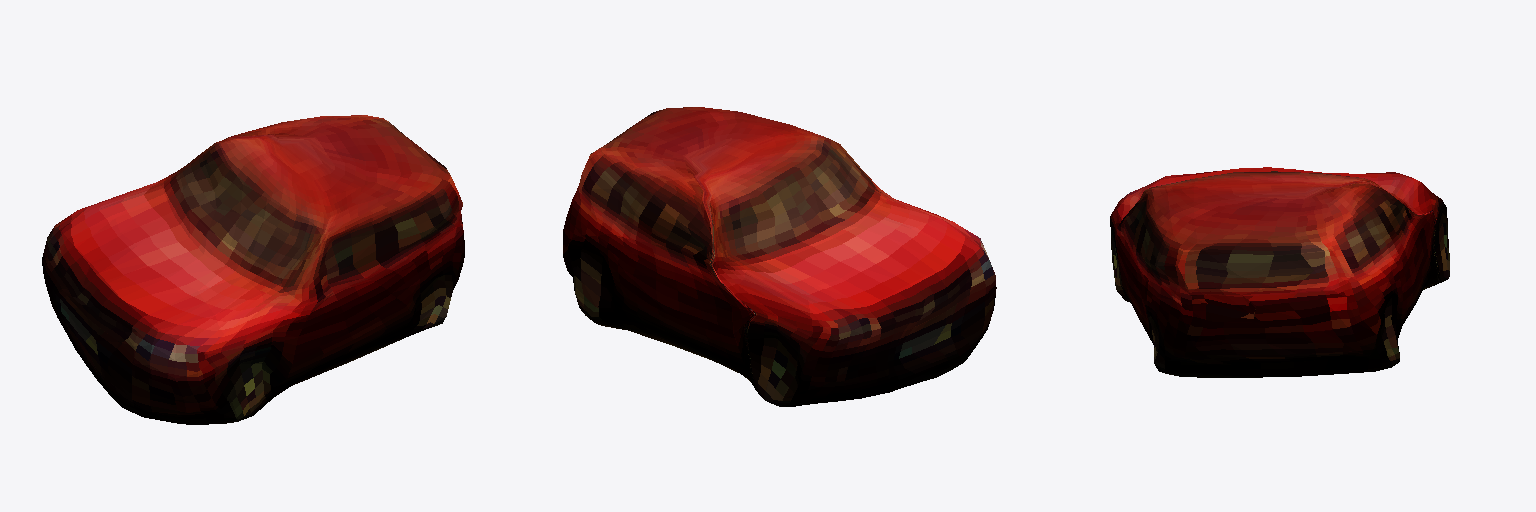
3 views of the same model, side by side, from view 1: azimuth 30°, elevation 25°; view 2: azimuth 150°, elevation 25°; view 3: azimuth 270°, elevation 25° (orthographic).
Size of the model in its own units: 1 by 0.5187 by 0.8581.
Materials: 1 (1 with a texture image).